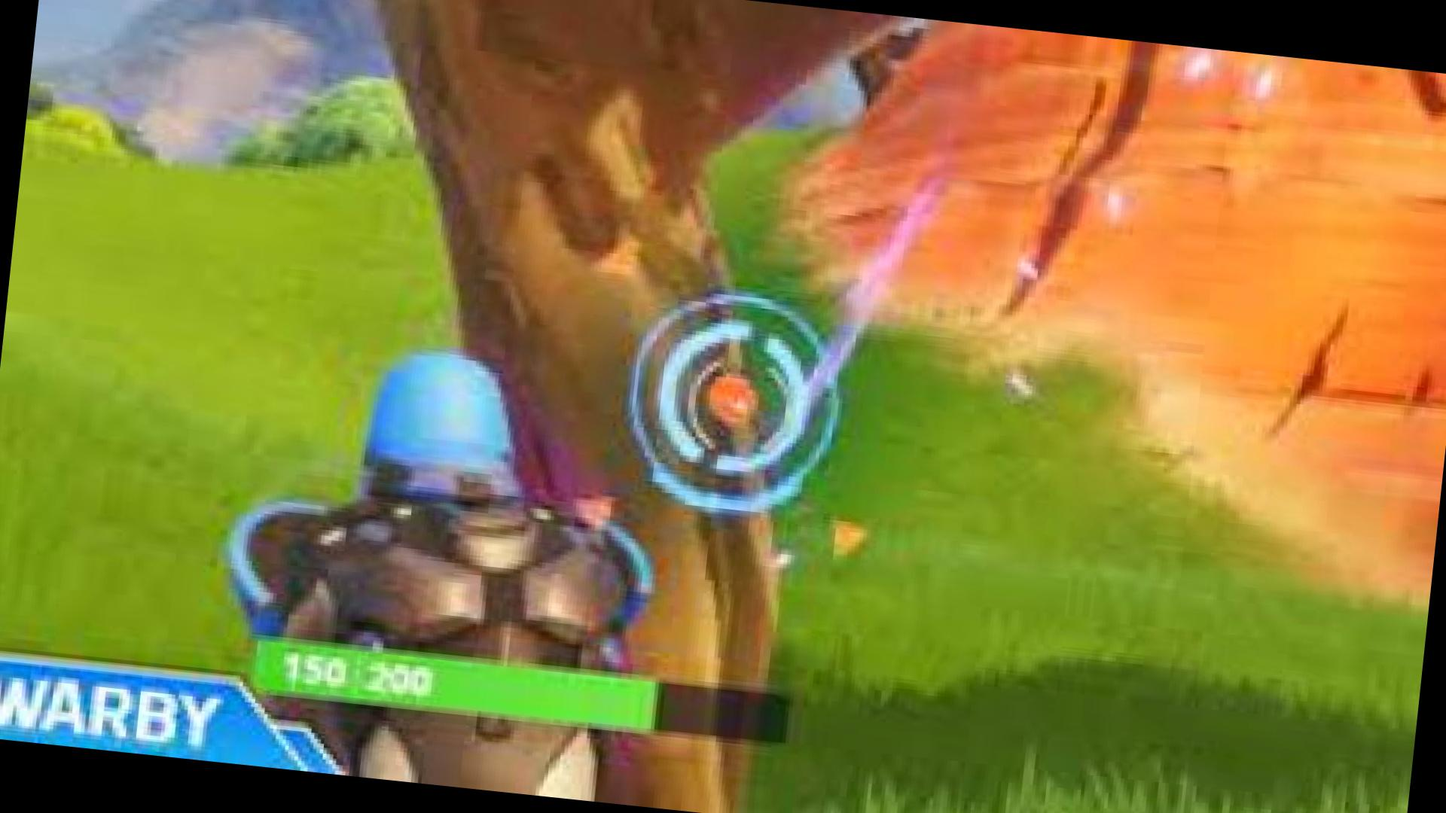player: (607, 275, 858, 523)
